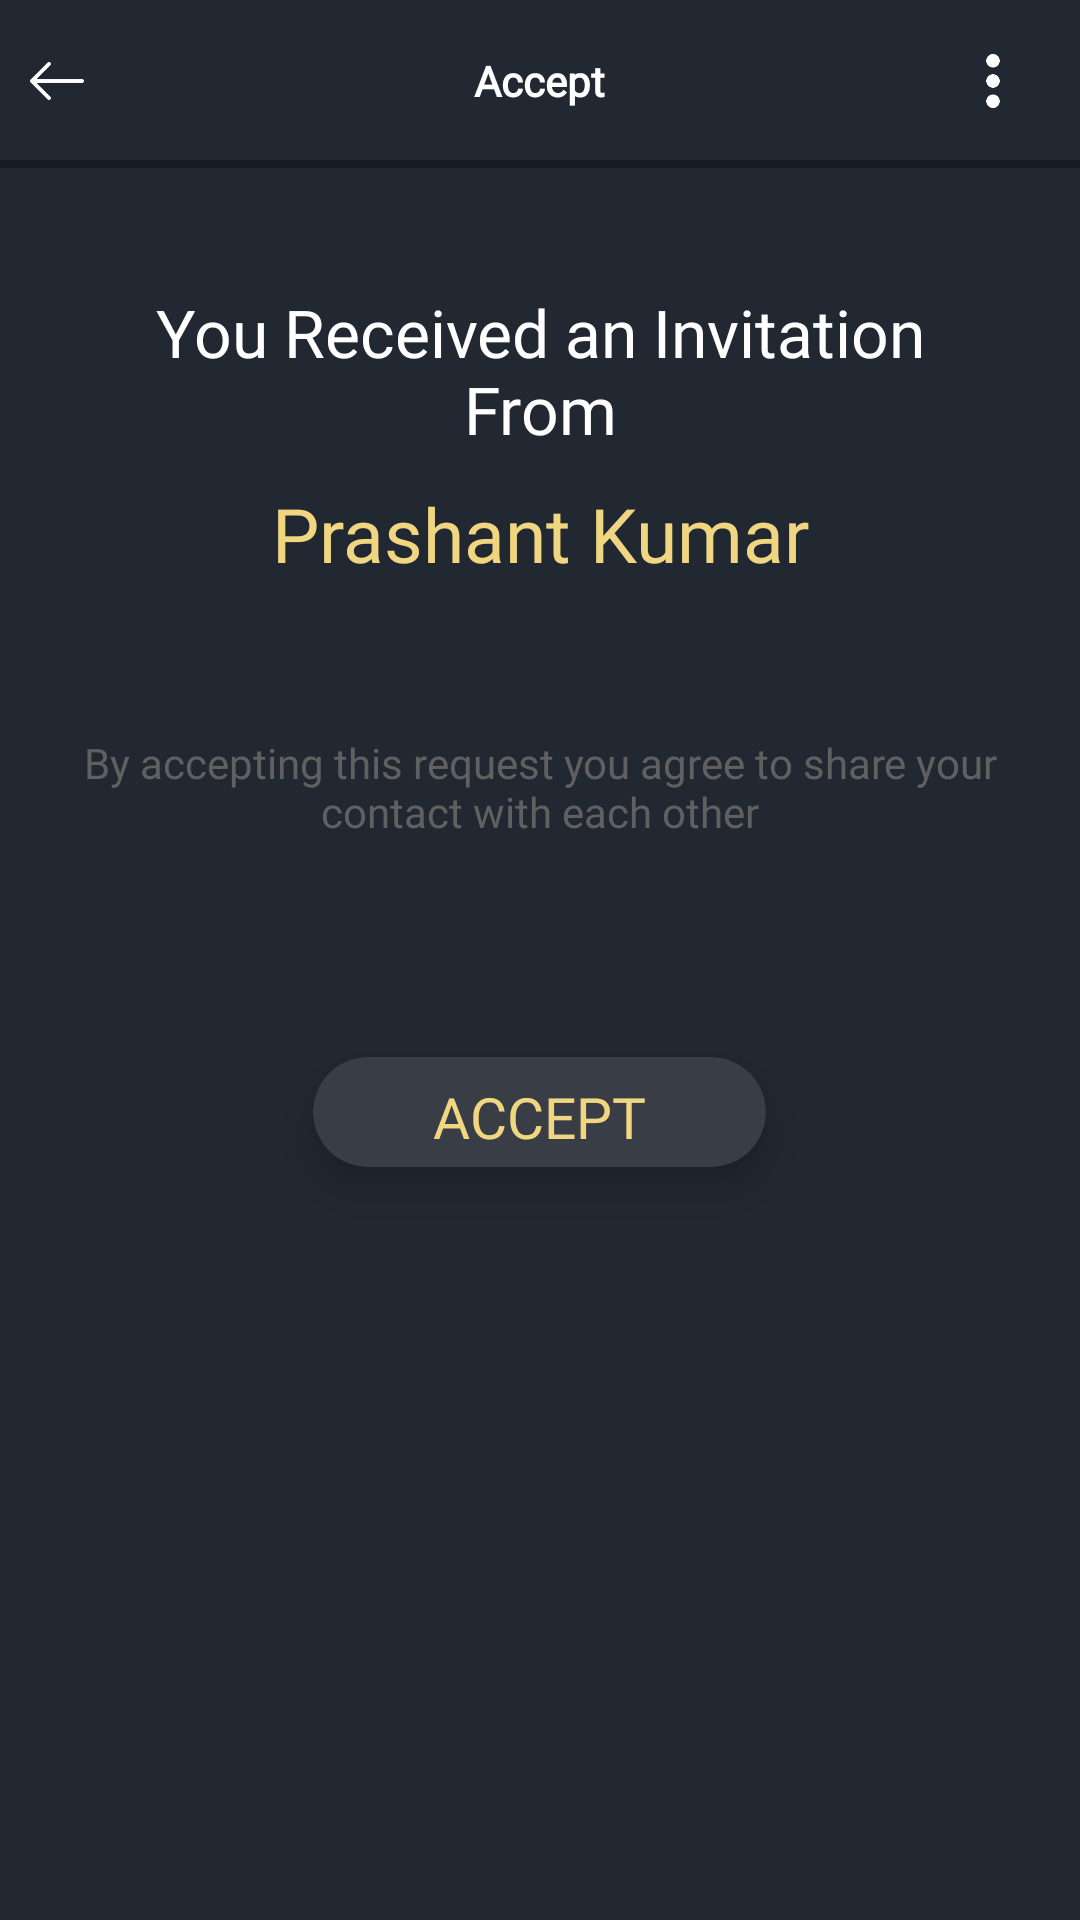

Where icons sit on this 1080x1920 app screen, as (x1, y1, x2, y2):
back: (30, 62, 84, 100)
menu: (986, 54, 1000, 108)
